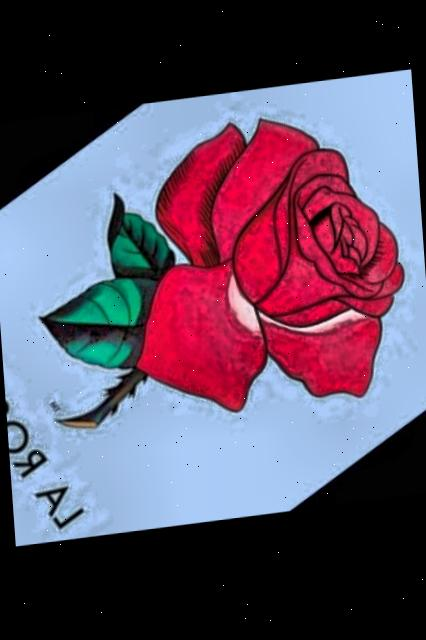La Rosa: (0, 74, 426, 546)
